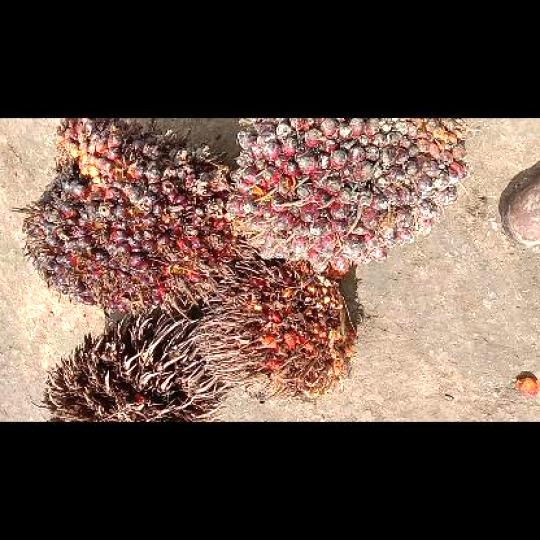kurang masak: (225, 118, 479, 274)
masak: (10, 119, 237, 312)
terlalu masak: (196, 260, 362, 402)
